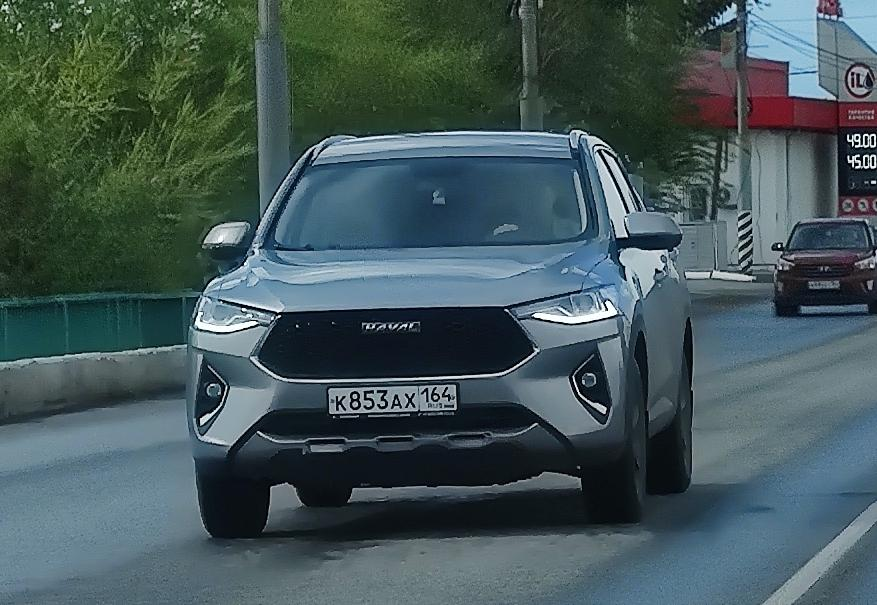license-plateSW: (331, 387, 456, 414), (808, 280, 841, 287)
